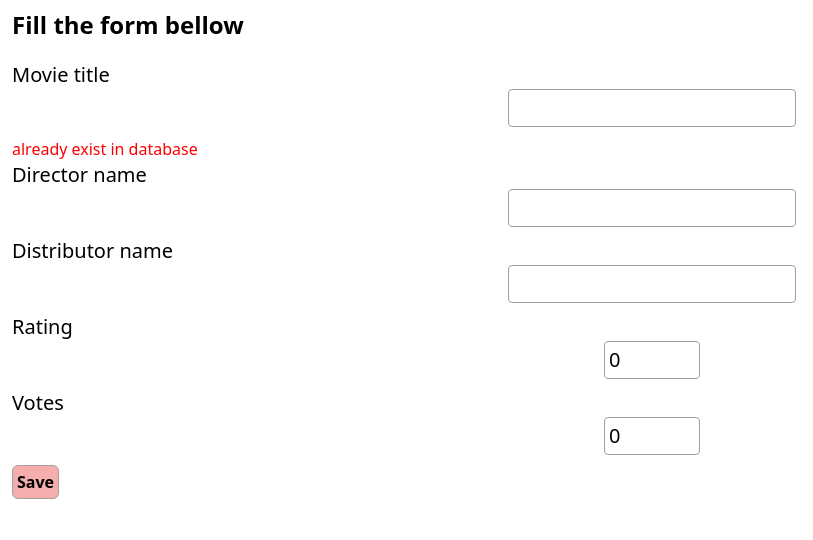
it: Test the AddMovieFormComponent › validation votes value more that 99999 should be trigered
This screenshot has width=813, height=540.
Replace the text in the number field with test id "votes" with "10000000": (652, 436) x1=604 y1=417 x2=700 y2=455
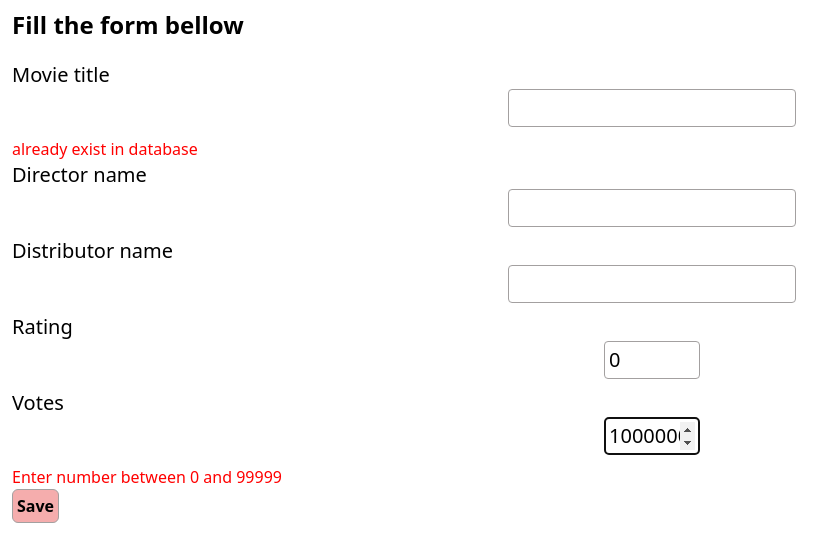
Check: the button with test id "addMovieSubmit" is disabled, box x1=12 y1=489 x2=59 y2=523
Check: the text with test id "votesError" reads "Enter number between 0 and 99999", box x1=12 y1=466 x2=282 y2=488
